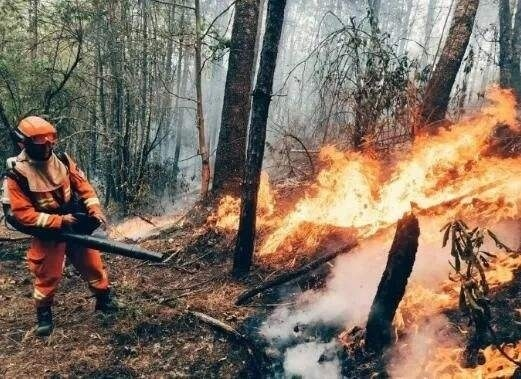fire: (189, 103, 521, 352), (102, 209, 177, 241)
